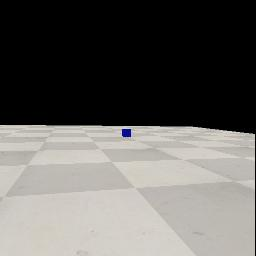box: (122, 129, 131, 137)
